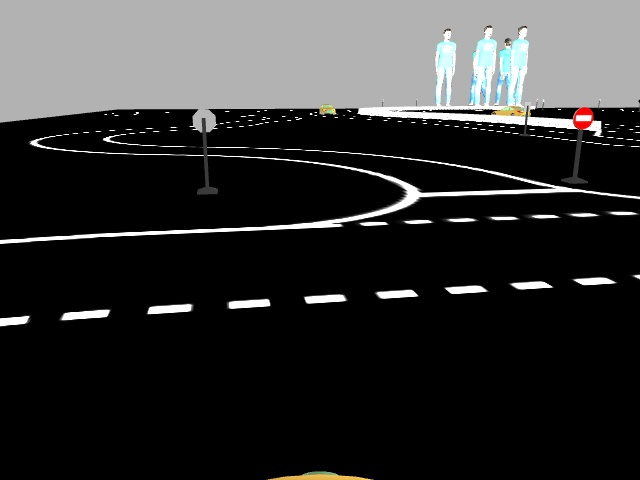NoEntry: (571, 106, 596, 130)
